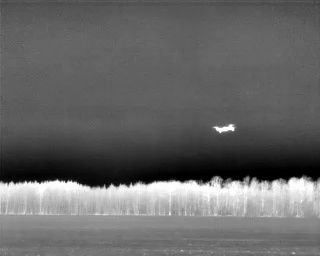DRONE: (210, 118, 240, 139)
